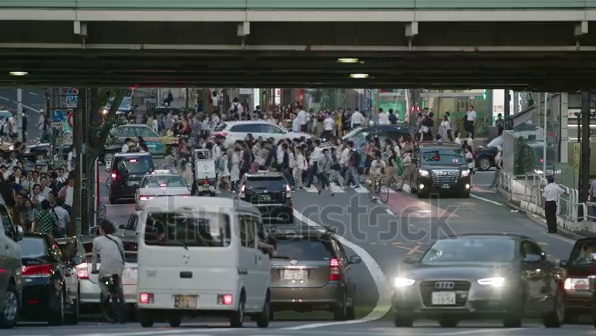licenseplate: (175, 294, 202, 309), (429, 291, 459, 304)
